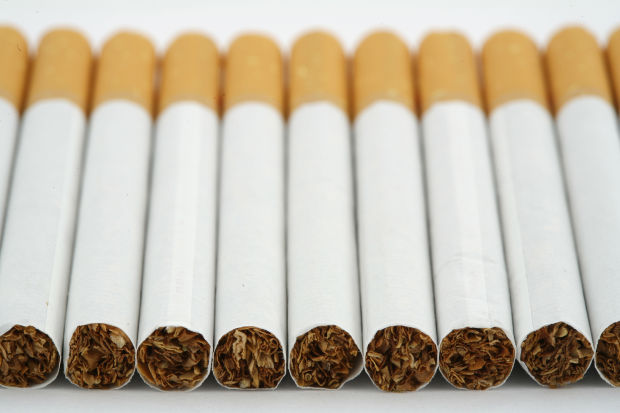cigarette: (478, 23, 595, 402), (406, 24, 518, 400), (341, 33, 441, 397), (61, 23, 157, 400), (1, 20, 93, 398), (273, 29, 364, 389), (214, 33, 293, 393), (146, 27, 218, 413)
